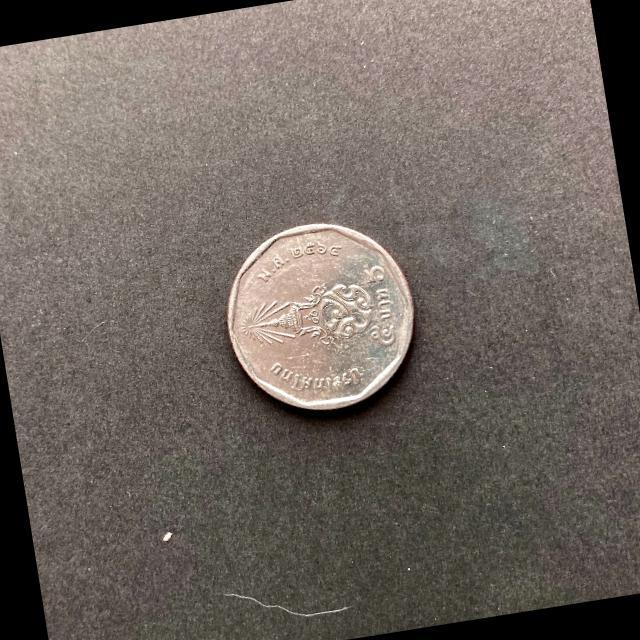5 Bath: (228, 220, 419, 416)
